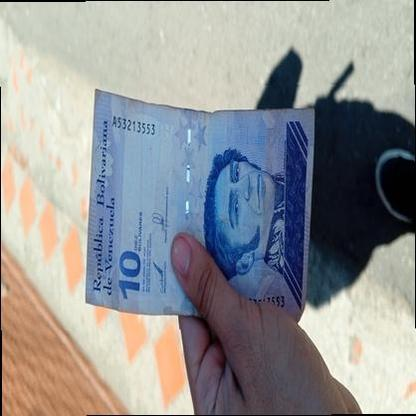ten-front-vef: (85, 88, 315, 324)
